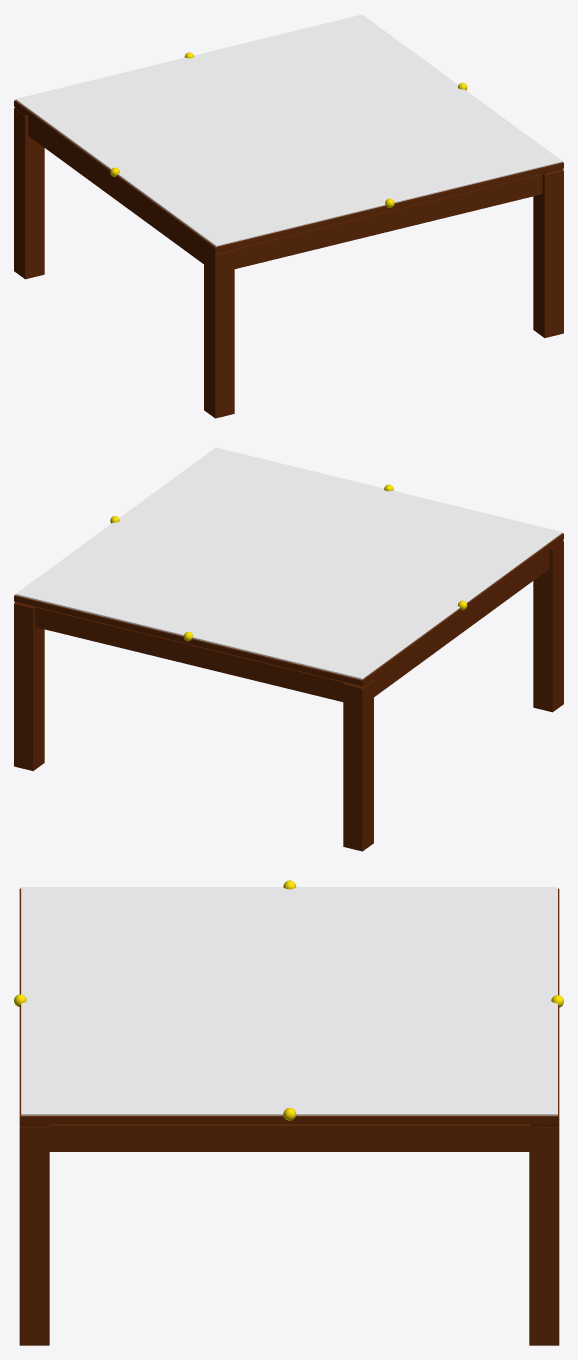
Rendered from attach-demo-table.dae.
3 renders of one model, top to bottom at view 1: azimuth 30°, elevation 25°; view 2: azimuth 150°, elevation 25°; view 3: azimuth 270°, elevation 25°, orthographic. The views are drawn at different scales.
Visible parts, largest first — view 1: _3DSMesh_8_6, _3DSMesh_6_6; view 2: _3DSMesh_8_6, _3DSMesh_6_6; view 3: _3DSMesh_8_6, _3DSMesh_6_6.
Part boxes in pixels (left/top/right/bottom): _3DSMesh_8_6: left=15, top=14, right=562, bottom=246; _3DSMesh_6_6: left=14, top=100, right=563, bottom=418; _3DSMesh_8_6: left=15, top=447, right=562, bottom=679; _3DSMesh_6_6: left=14, top=533, right=563, bottom=851; _3DSMesh_8_6: left=21, top=887, right=557, bottom=1115; _3DSMesh_6_6: left=19, top=888, right=559, bottom=1345.
Size of the model in its own units: 4.29 by 2.04 by 4.28.
